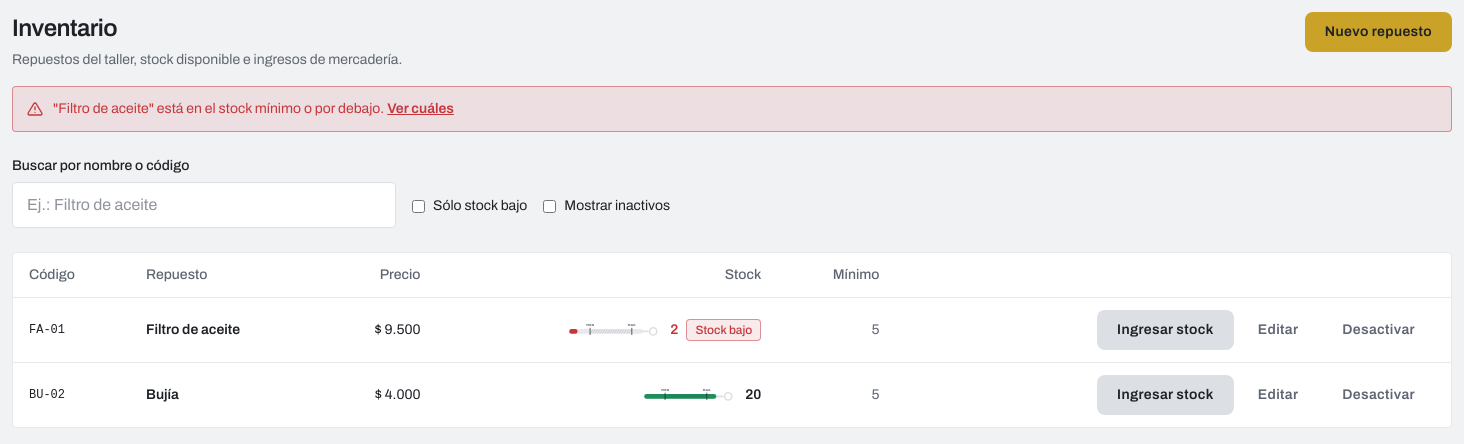
Test case: Inventario › "Mostrar inactivos" pide todos y permite activar
Expected: the table is shown, x1=13 y1=253 x2=1451 y2=427
Click the checkbox labelled "Mostrar inactivos" at (550, 206), box x1=543 y1=200 x2=556 y2=212
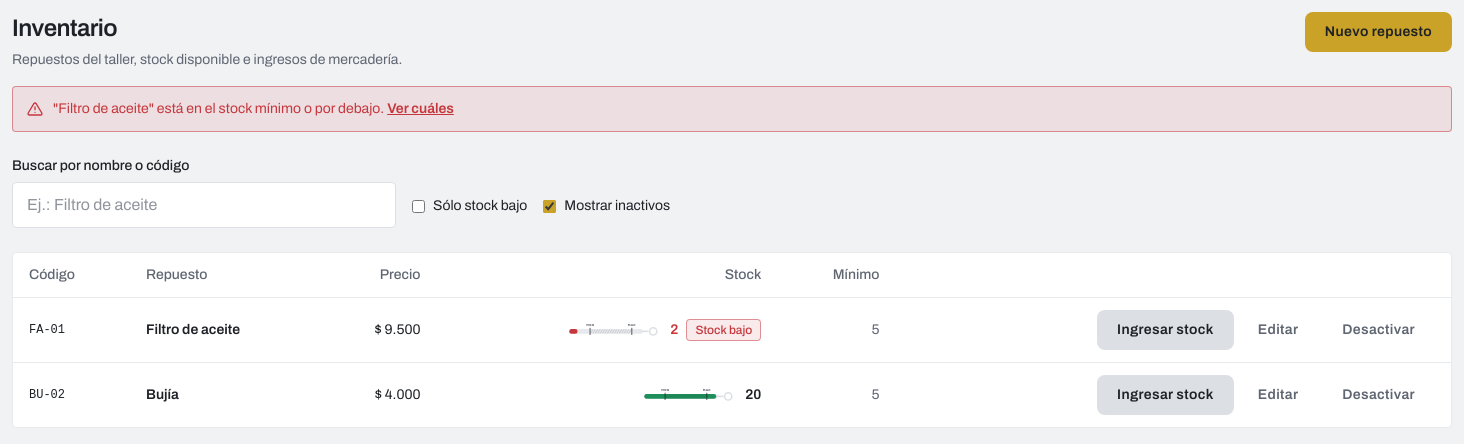
Type "correa" into the search field labelled "Buscar por nombre o código" at (204, 205), box x1=12 y1=182 x2=396 y2=228
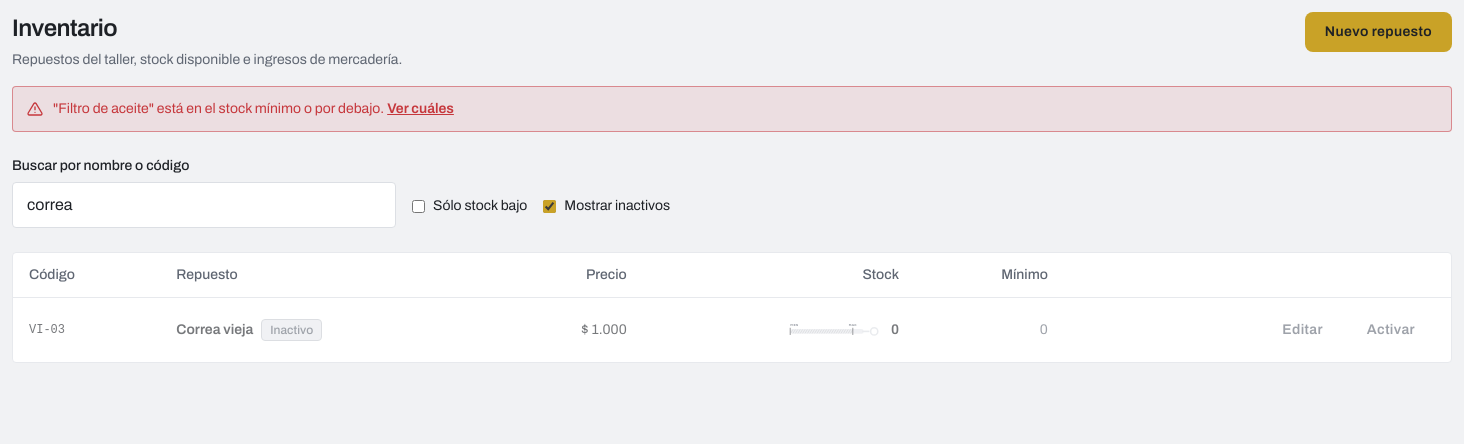
Click the button "Activar" at (1391, 330), box x1=1347 y1=310 x2=1435 y2=350
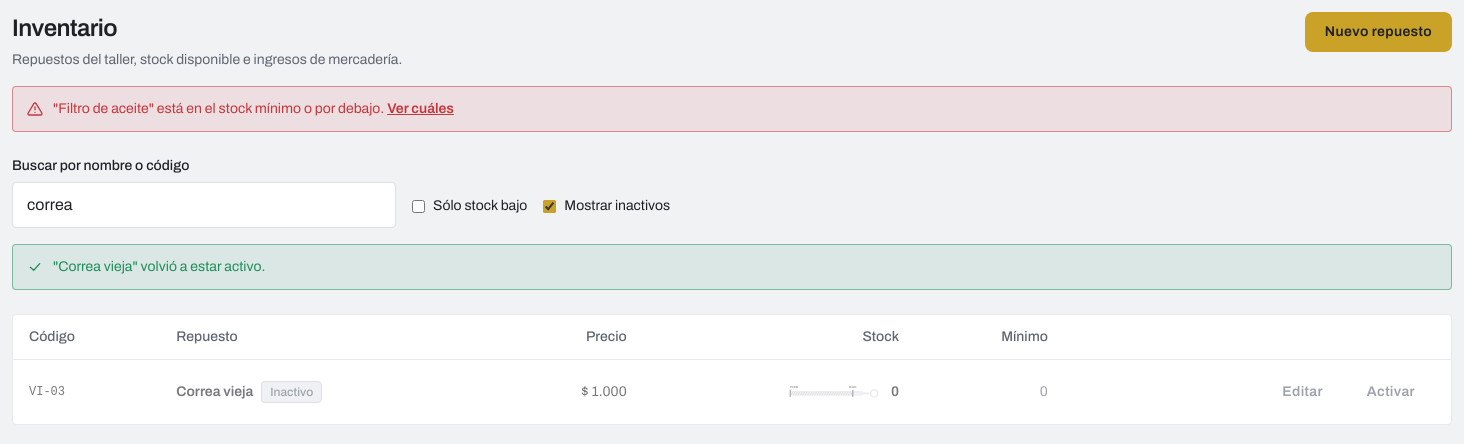
Expected: the text "\"Correa vieja\" volvió a estar activo." is shown, x1=53 y1=259 x2=265 y2=274
